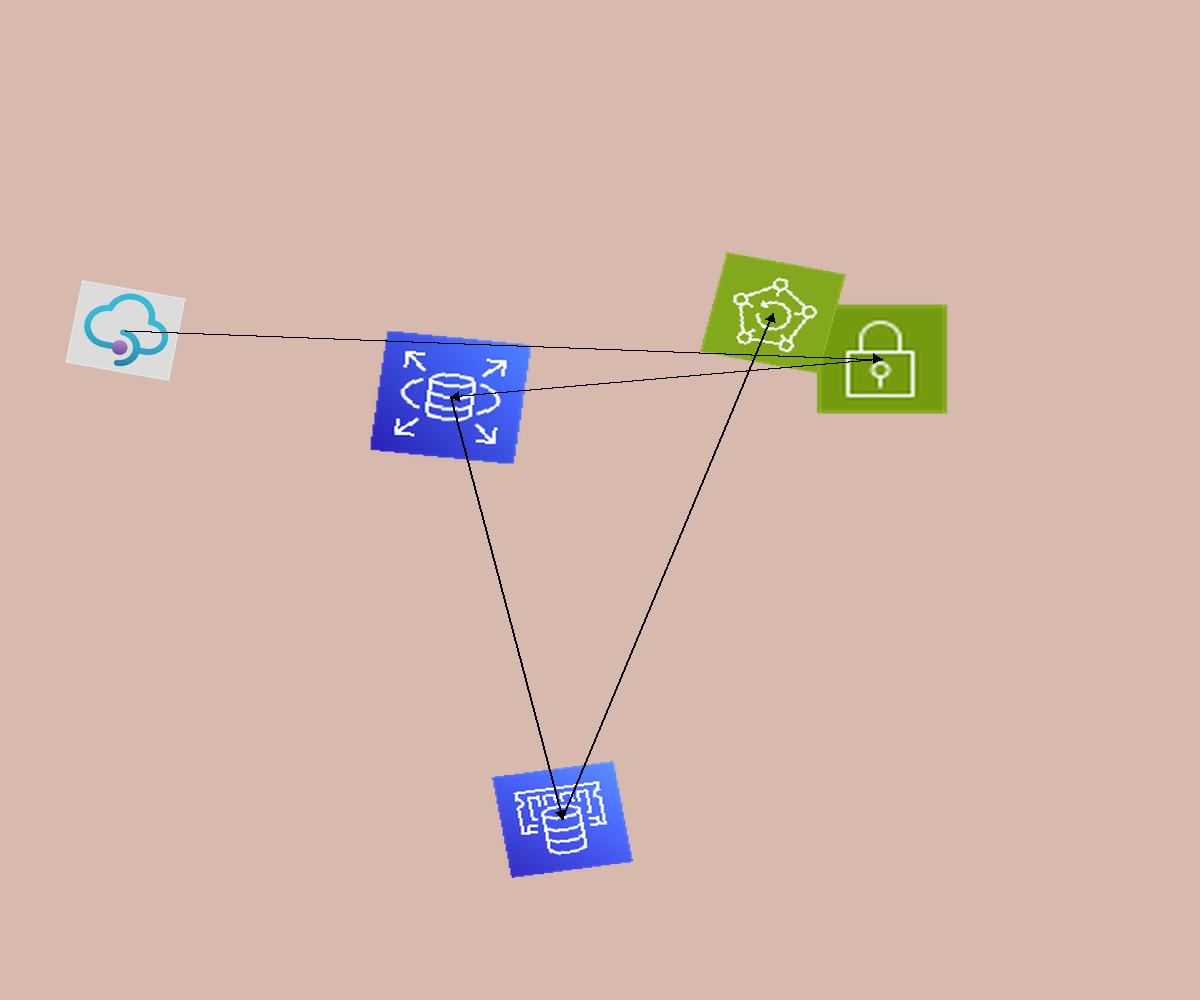AWS-Backup: (700, 252, 846, 374)
AWS-ElastiCache: (492, 761, 633, 878)
AWS-Public-subnet: (814, 302, 950, 416)
AWS-RDS: (369, 330, 532, 465)
Azure_api_gateway: (65, 280, 186, 381)
